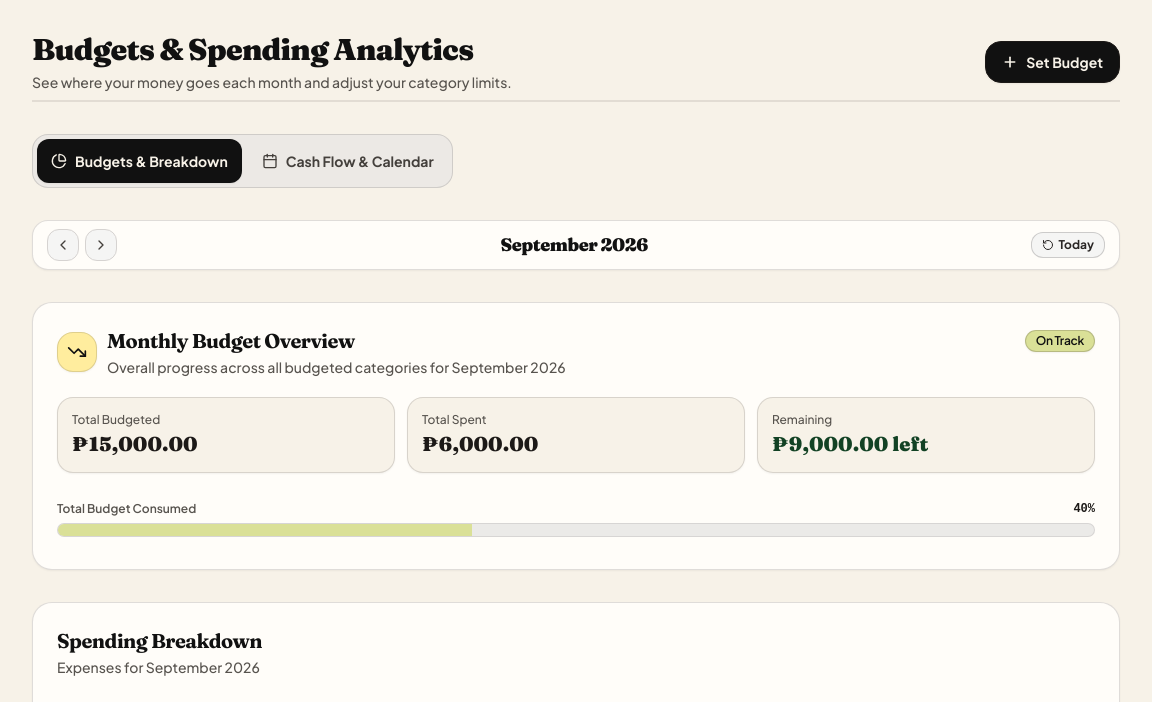
Test: BudgetsAnalyticsView Component (TDD) › opens BudgetFormModal when clicking quick Set Budget action or Edit Budget on card
The width and height of the screenshot is (1152, 702).
// Click quick Set Budget button
Click the button with test id "quick-set-budget-btn" at (1053, 62), box [985,41,1120,83]
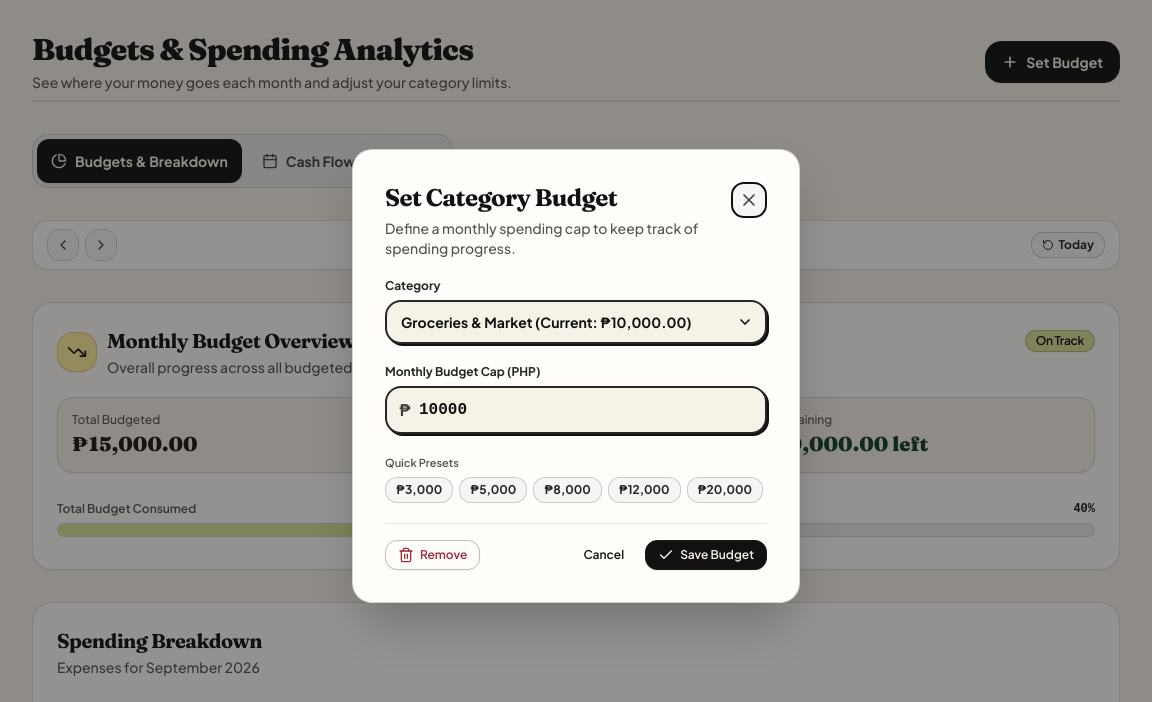
Expected: the heading "Set Category Budget" is shown, [385,183,617,212]
// Close modal
Click the button named "Close modal" at (749, 200), box [731,182,767,218]
(page scrolled)
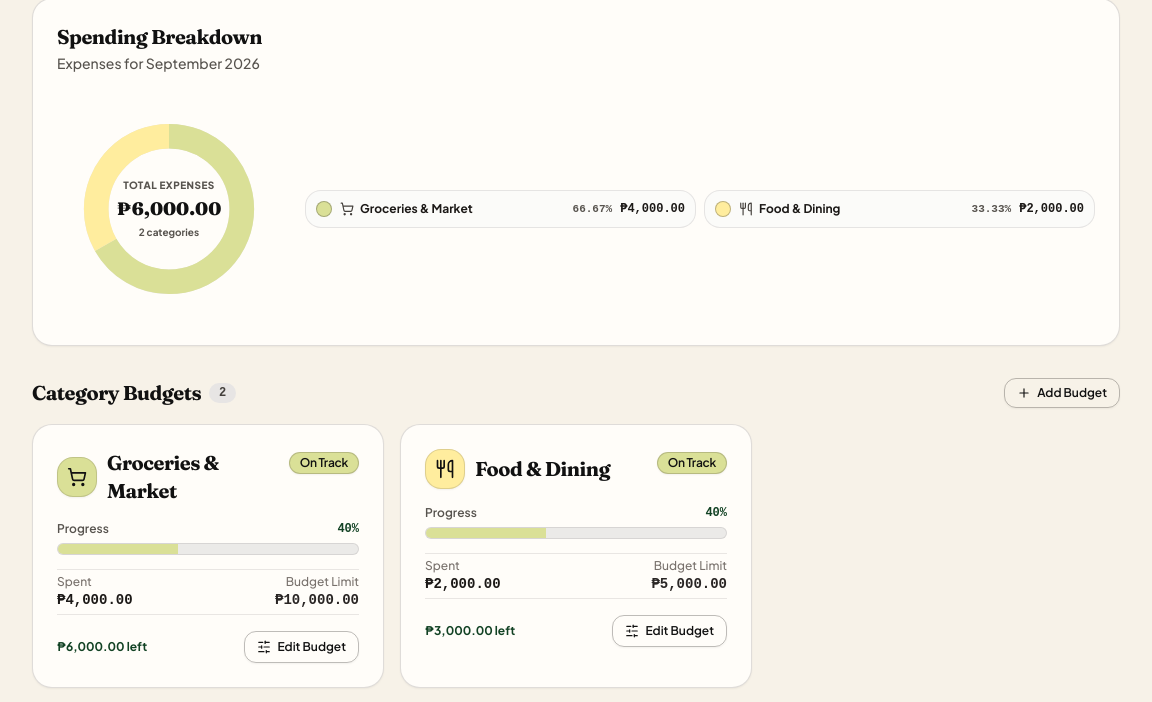
Expected: the heading "Set Category Budget" is gone
// Click Edit Budget on Groceries card
Click the button with test id "edit-budget-btn-cat-groceries" at (302, 647), box [244,631,359,663]
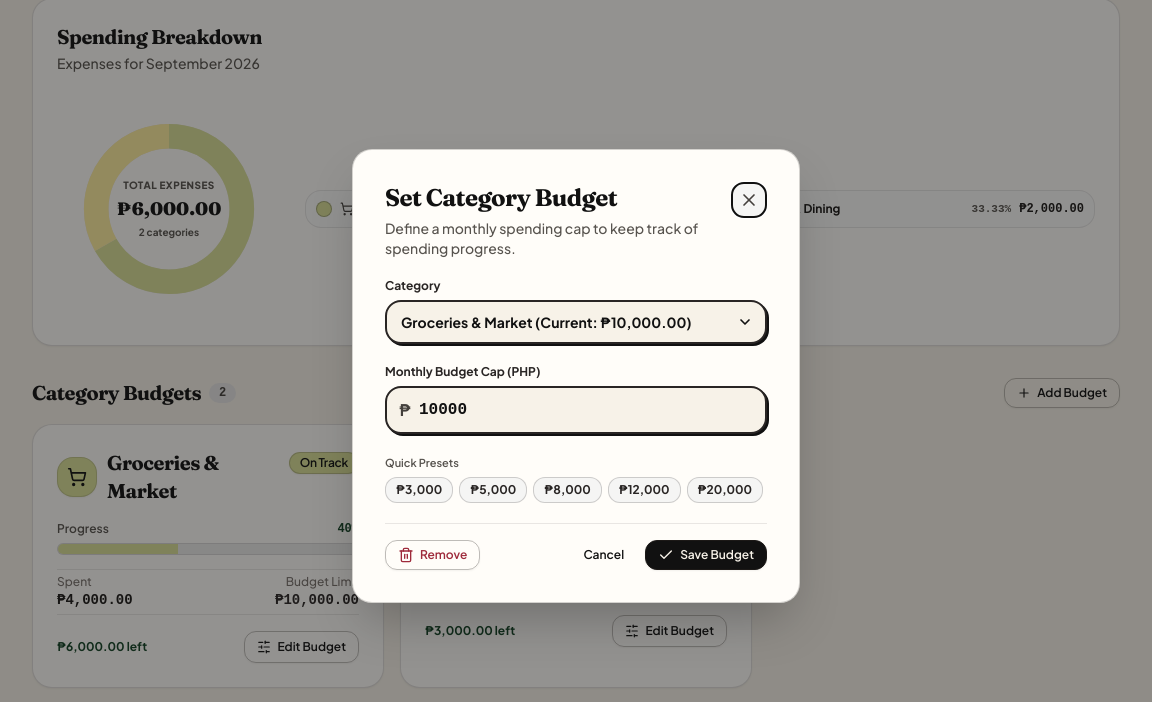
Expected: the heading "Set Category Budget" is shown, [385,183,617,212]
Expected: the dropdown with test id "budget-category-select" shows "Groceries & Market (Current: ₱10,000.00)", [385,300,767,344]
